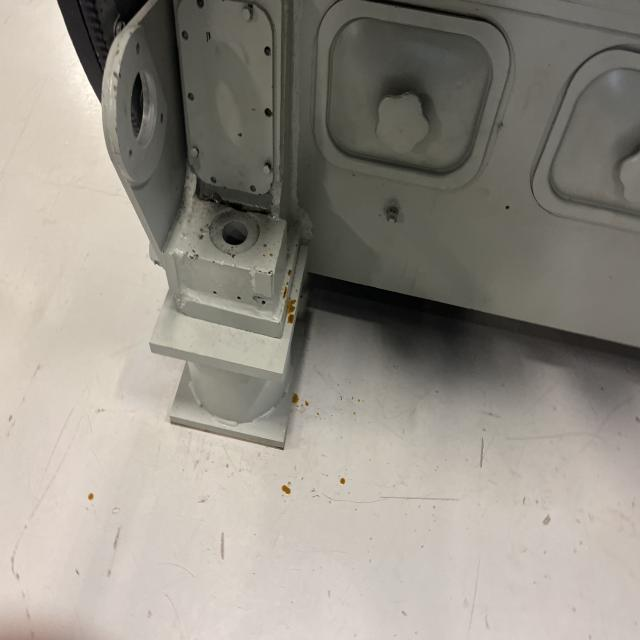Oil Leak: (286, 299, 297, 316), (280, 485, 292, 495), (291, 393, 299, 404), (286, 317, 293, 324), (87, 493, 94, 500), (339, 478, 346, 485)
